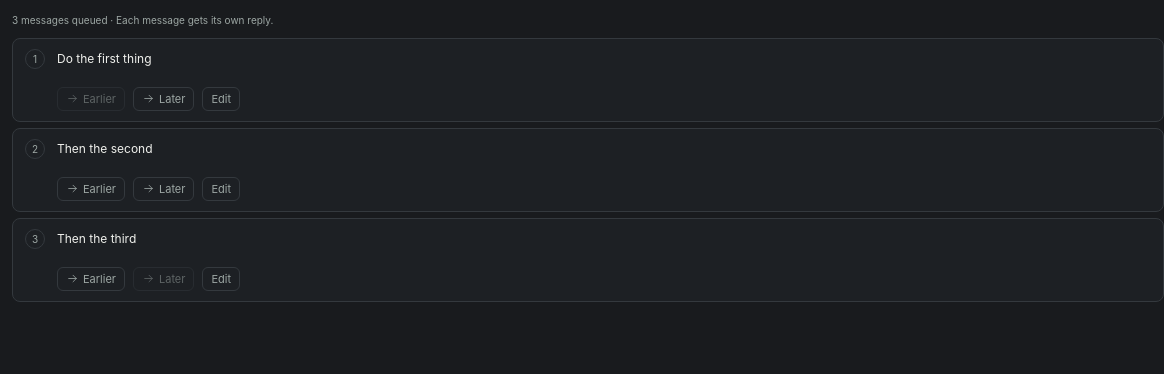
Scenario: queued messages › puts the queue back and says why when a reorder is refused
The width and height of the screenshot is (1164, 374).
Step 1. Click the button with aria-label "Move message 3 earlier" → (91, 278), box [57,266,125,290]
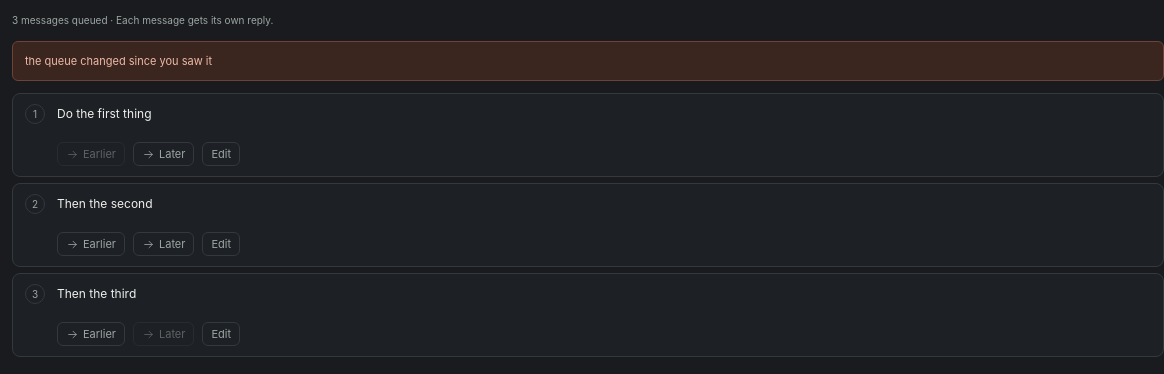
Now the message reads "the queue changed since you saw it", box [25,54,212,68]
